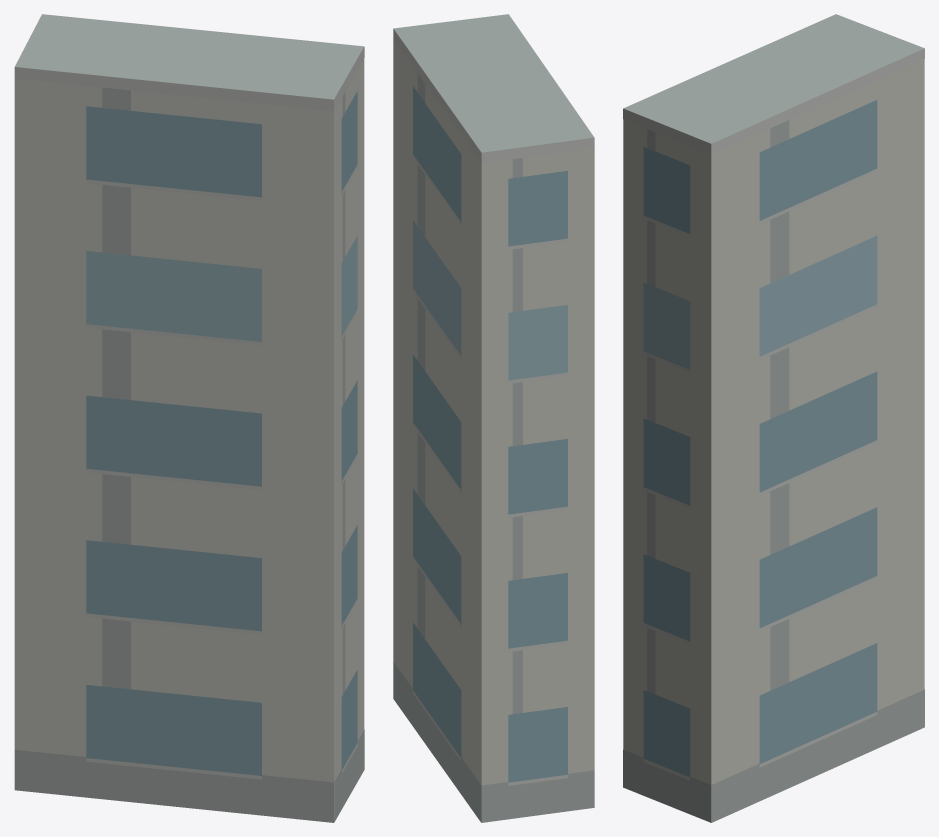
Rendered from survey-upis-32938521.glb.
The picture shows the model from 3 angles, left to right: view 1: azimuth 30°, elevation 25°; view 2: azimuth 150°, elevation 25°; view 3: azimuth 270°, elevation 25°; orthographic projection. The views are drawn at different scales.
Parts seen in each view (by area): view 1: survey-upis-32938521.tmp; view 2: survey-upis-32938521.tmp; view 3: survey-upis-32938521.tmp.
Part boxes in pixels (x1,y1,x2,y2): survey-upis-32938521.tmp: (14, 14, 364, 822); survey-upis-32938521.tmp: (393, 14, 594, 822); survey-upis-32938521.tmp: (623, 14, 924, 822).
Bounding box in the file's own units: 6.26 × 15.25 × 6.15.
